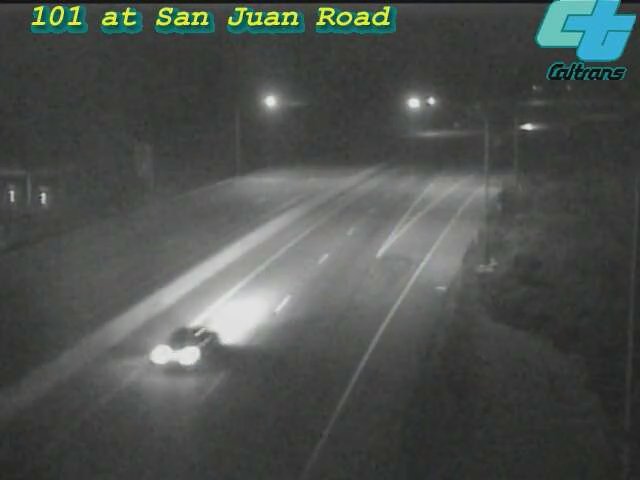vehicle: (125, 294, 235, 404), (502, 101, 552, 151)
